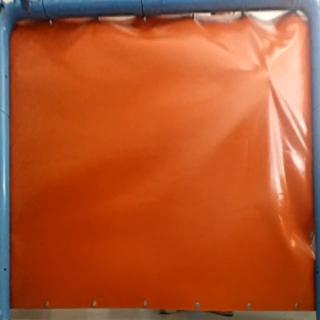Hit-hRxx: (262, 64, 275, 79)
